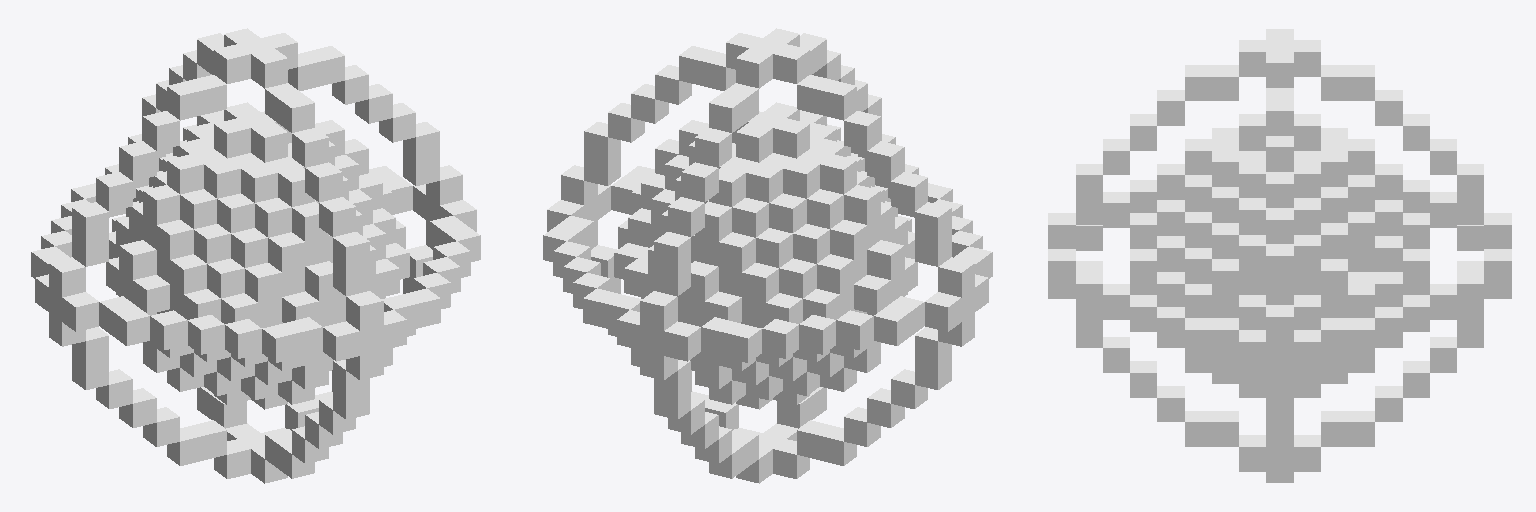
File: ammo_01.obj
3 views of the same model, side by side, from view 1: azimuth 30°, elevation 25°; view 2: azimuth 150°, elevation 25°; view 3: azimuth 270°, elevation 25° (orthographic).
Bounding box in the file's own units: 17 × 17 × 17.